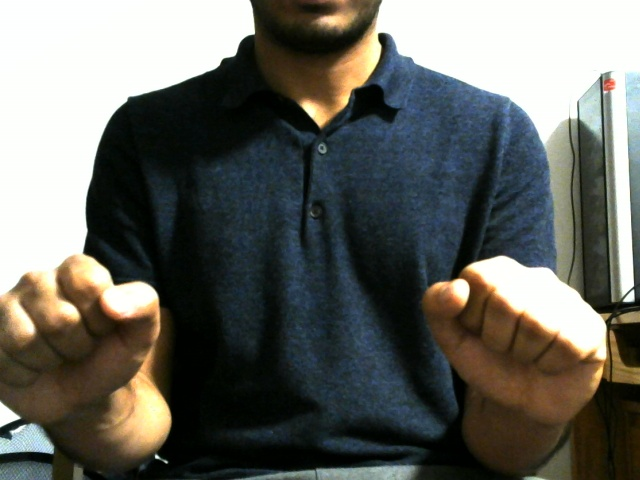can: (1, 195, 629, 469)
